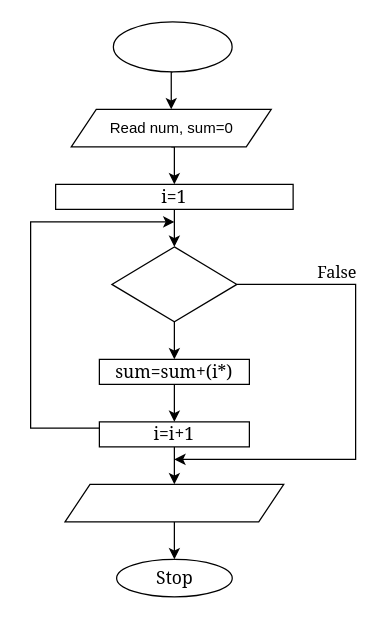
Some shapes in this 390 by 619 pixel diagram are drawn without their labels. The shapes that lost their labels are listed below. From the top down, each one's box as (x1, y1, x2, y2) in pixels, then its label:
(112, 21, 232, 72): Start
(111, 246, 237, 322): is i<=num
(64, 483, 284, 522): Print sum
